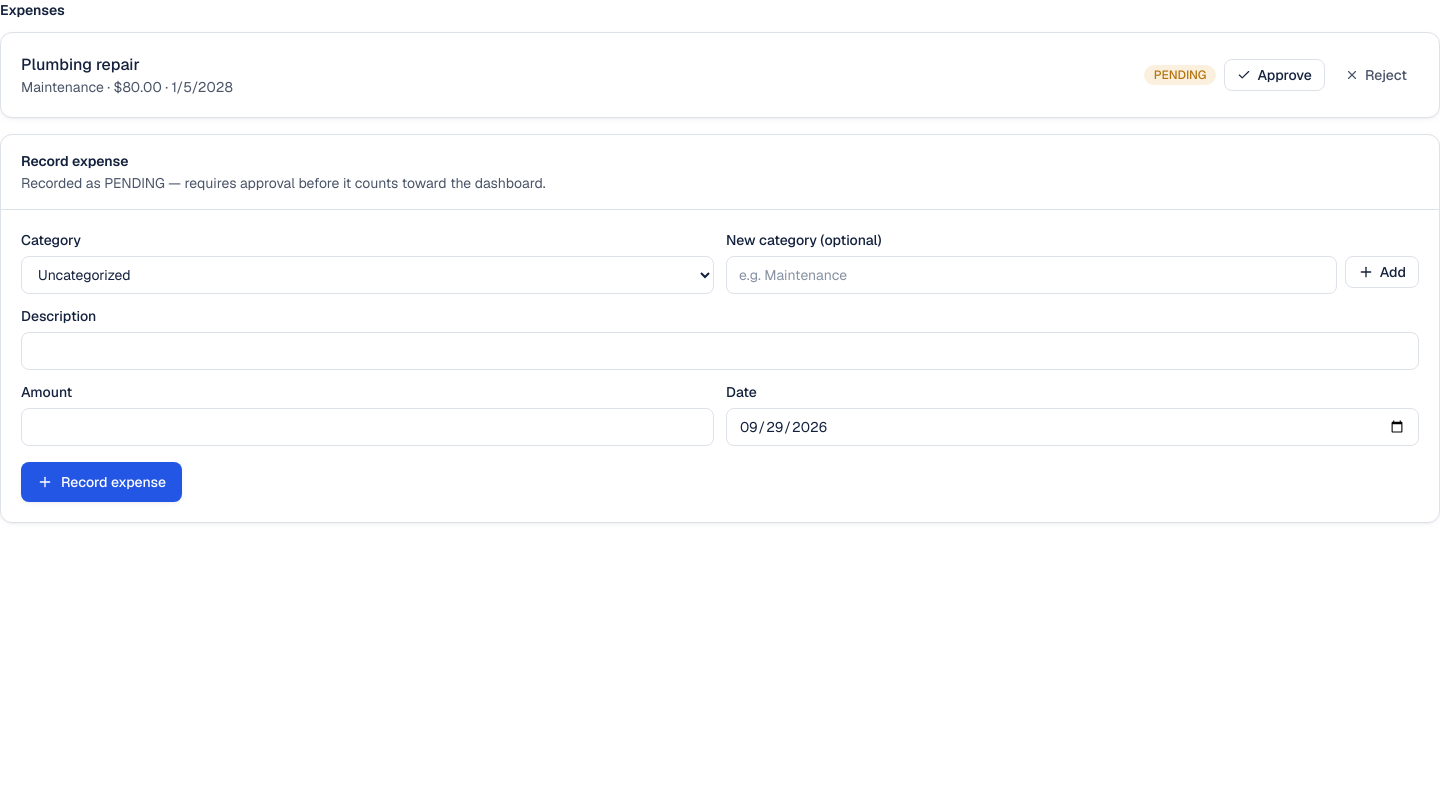
Scenario: ExpensesTab — approve/reject/mark-paid (mutations) › confirming reject with a reason shows a success toast, reloads, and closes the dialog
Click the button "Reject" at (1376, 75), box [1333, 59, 1419, 91]
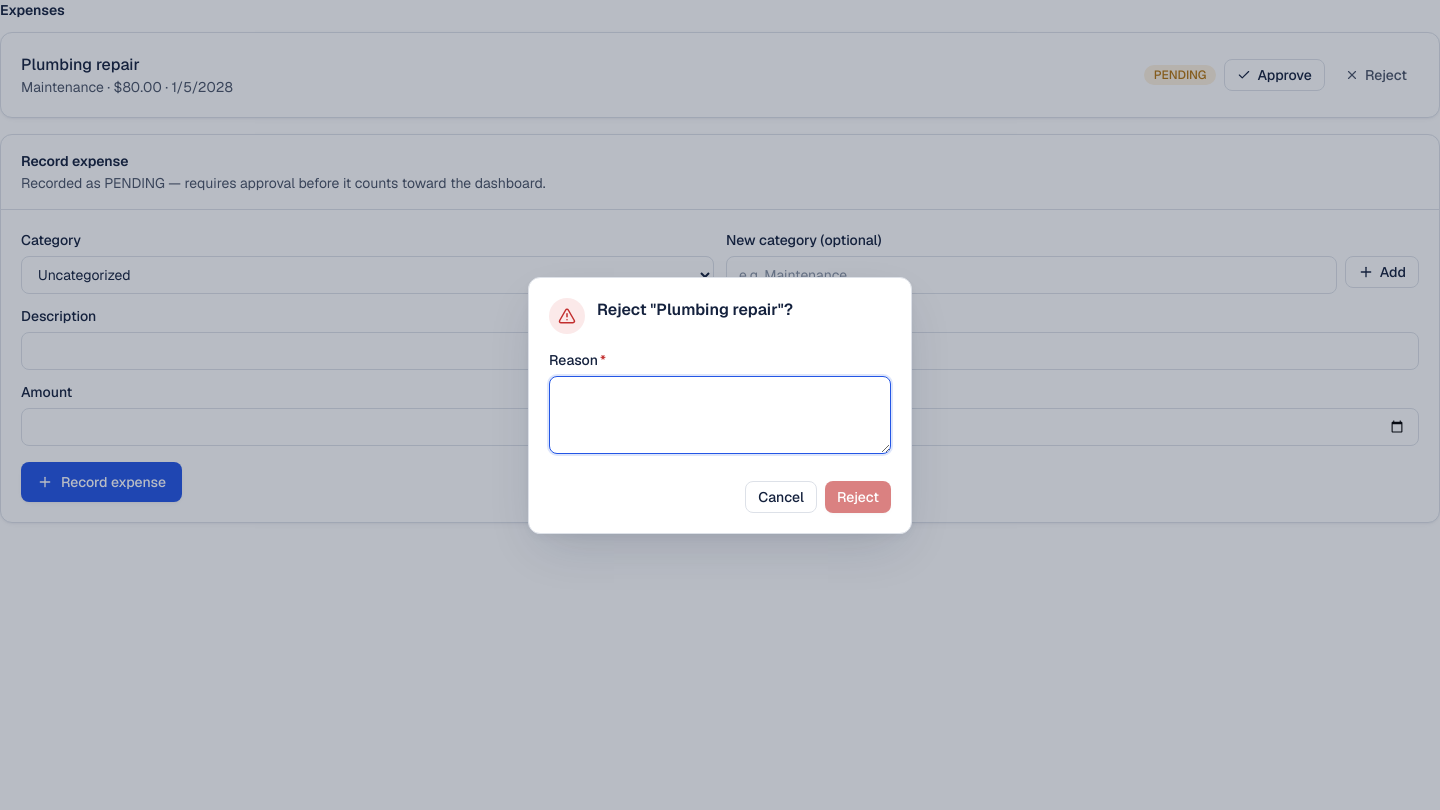
Type "Not a school expense" into the text box at (720, 414), box [549, 376, 891, 454]
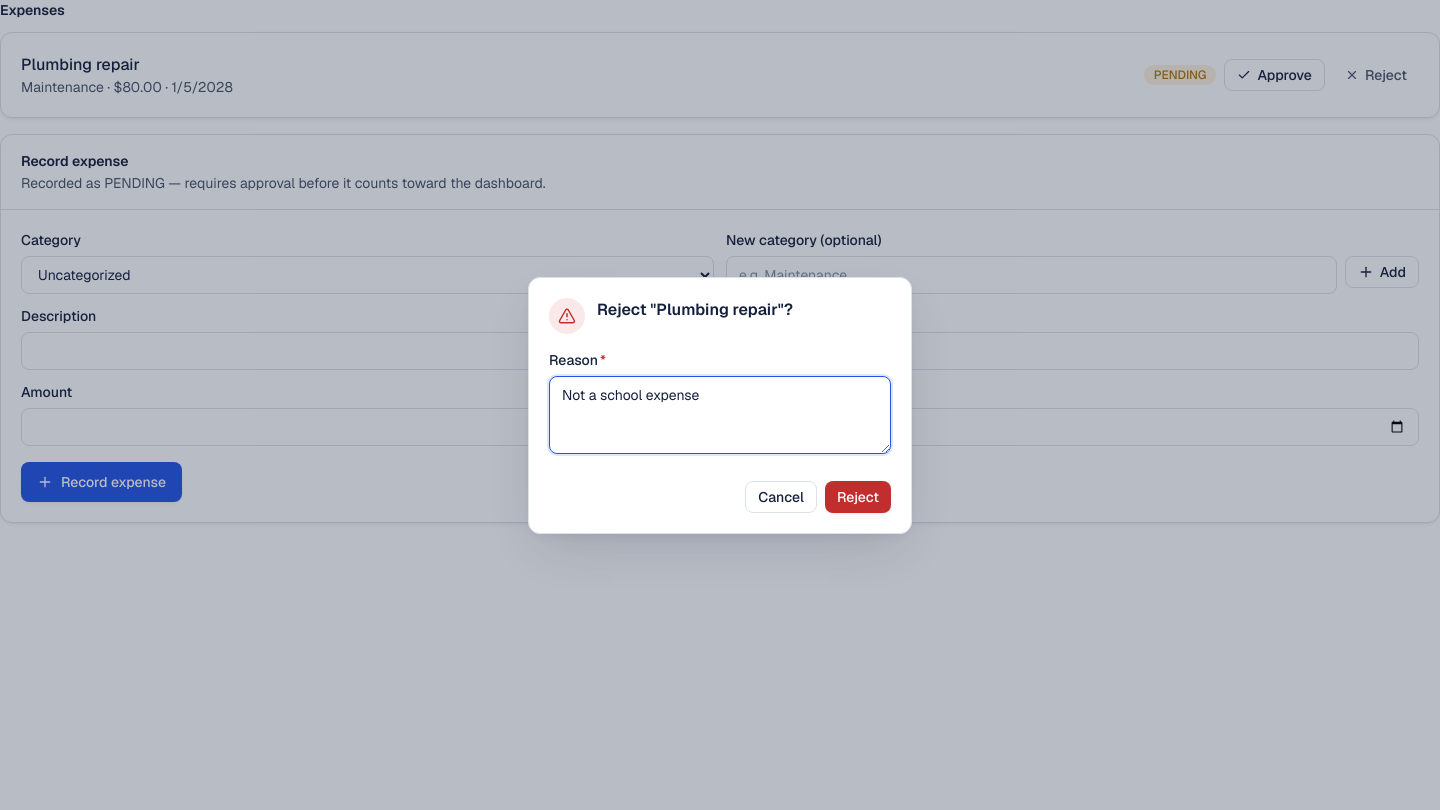
Click the button "Reject" at (858, 496), box [825, 480, 891, 512]
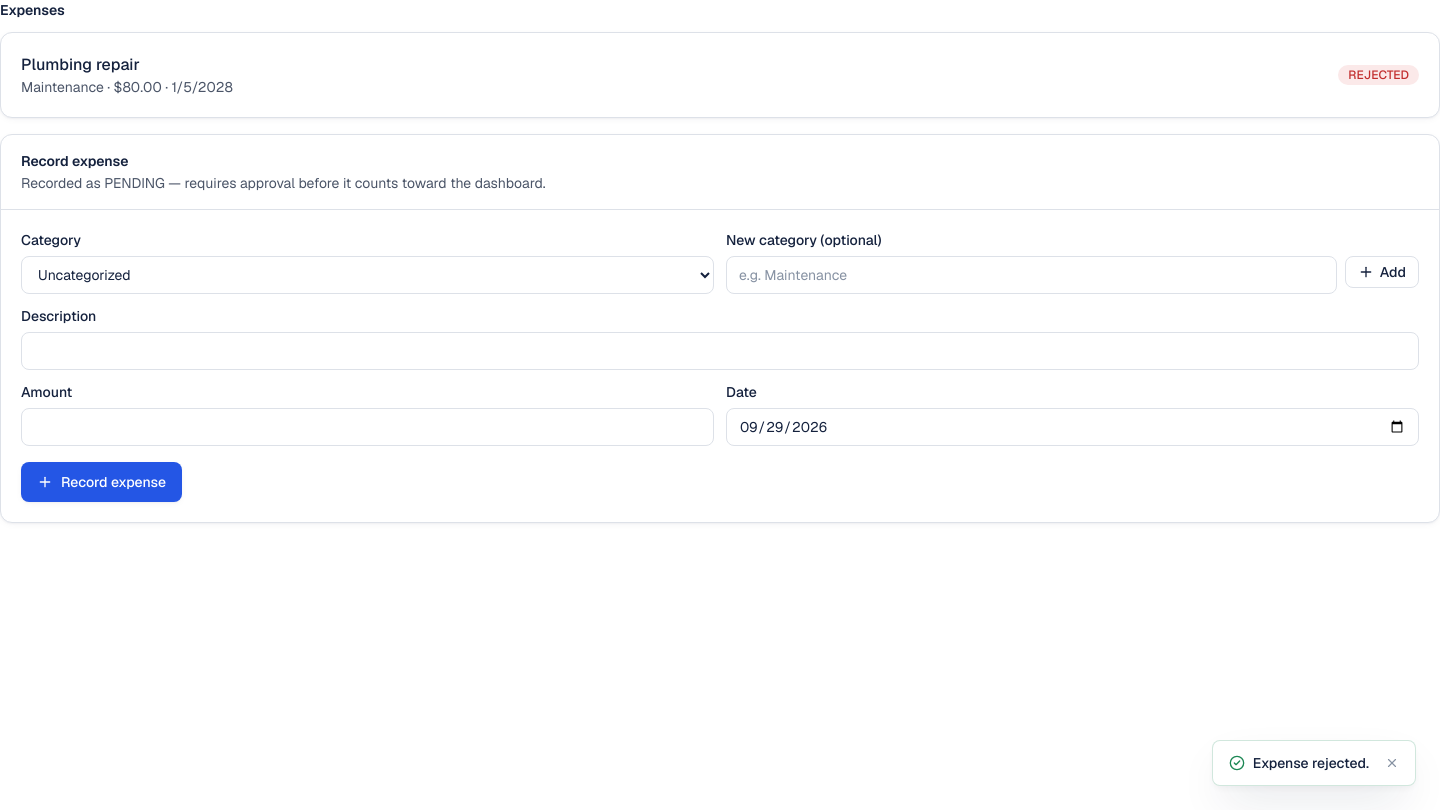
Now the text "Expense rejected." is shown, box [1253, 753, 1369, 773]
Now the dialog is gone
